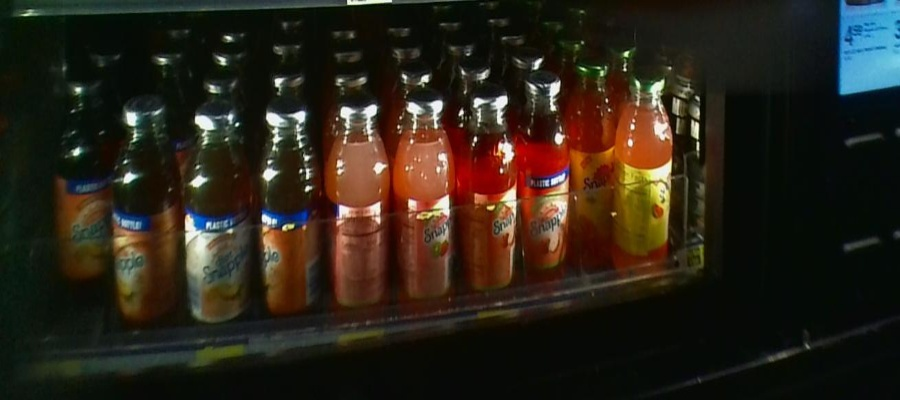bottle: (113, 95, 184, 333), (320, 89, 391, 320), (255, 103, 317, 330), (187, 107, 248, 336), (393, 96, 456, 314), (54, 64, 113, 293), (459, 85, 517, 314), (616, 67, 676, 276), (518, 68, 567, 286), (569, 61, 613, 250)
